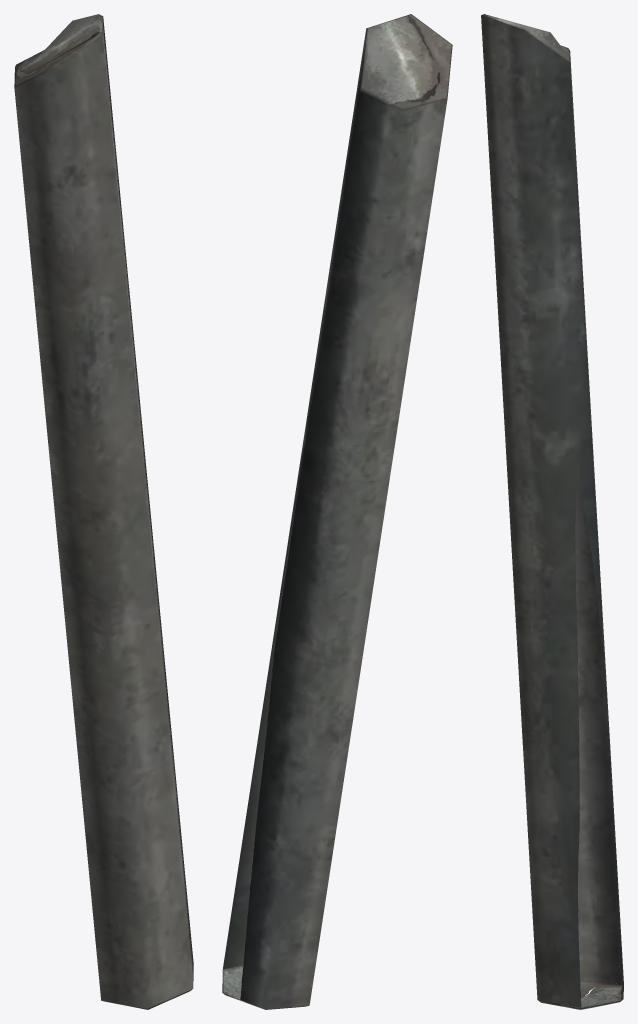
3 renders of one model, left to right at view 1: azimuth 30°, elevation 25°; view 2: azimuth 150°, elevation 25°; view 3: azimuth 270°, elevation 25°, orthographic. The views are drawn at different scales.
Visible parts, largest first — view 1: SM_SaradominTemple_Statue_01v13_LOD0; view 2: SM_SaradominTemple_Statue_01v13_LOD0; view 3: SM_SaradominTemple_Statue_01v13_LOD0.
Part boxes in pixels (x1,y1,x2,y2): SM_SaradominTemple_Statue_01v13_LOD0: [14, 14, 193, 1009]; SM_SaradominTemple_Statue_01v13_LOD0: [222, 14, 452, 1009]; SM_SaradominTemple_Statue_01v13_LOD0: [481, 14, 623, 1009].
Size of the model in its own units: 0.6532 by 3.06 by 0.4204.
Materials: 2 (2 with a texture image).
